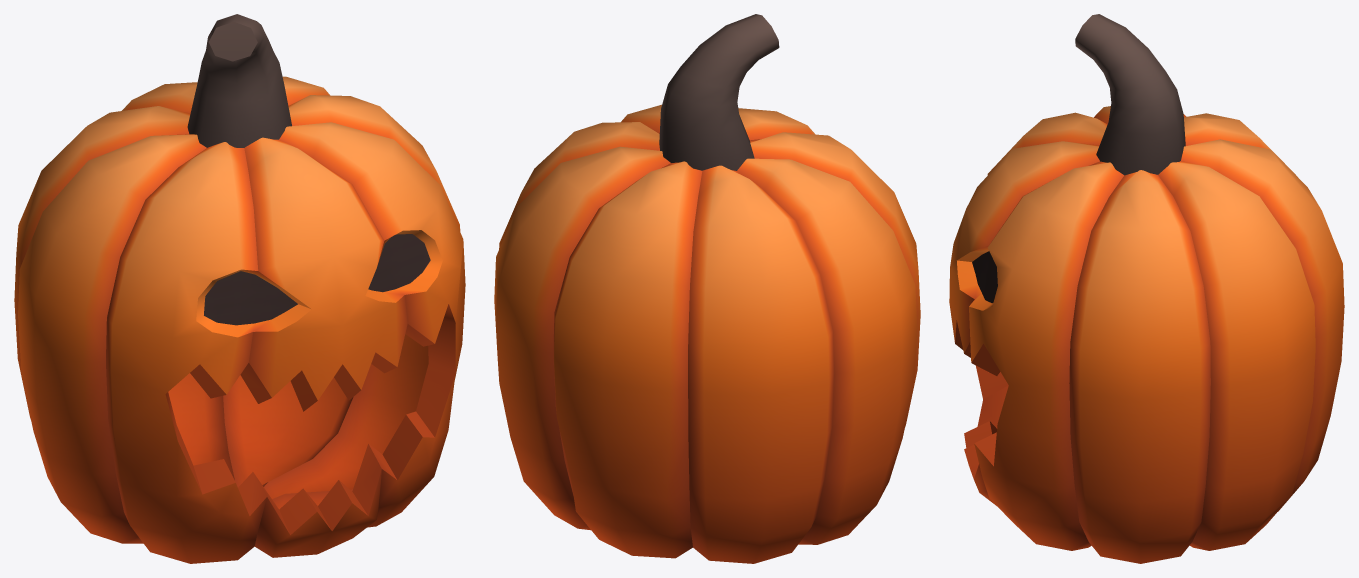
Rendered from Hat_53.glb.
3 views of the same model, side by side, from view 1: azimuth 30°, elevation 25°; view 2: azimuth 150°, elevation 25°; view 3: azimuth 270°, elevation 25° (orthographic). The views are drawn at different scales.
Parts seen in each view (by area): view 1: Hat_53; view 2: Hat_53; view 3: Hat_53.
Part boxes in pixels (bbox=[...]): Hat_53: bbox=[14, 14, 465, 563]; Hat_53: bbox=[494, 14, 920, 563]; Hat_53: bbox=[949, 14, 1344, 563].
Bounding box in the file's own units: 0.6434 × 0.7731 × 0.5748.
1 material, 1 textured.
